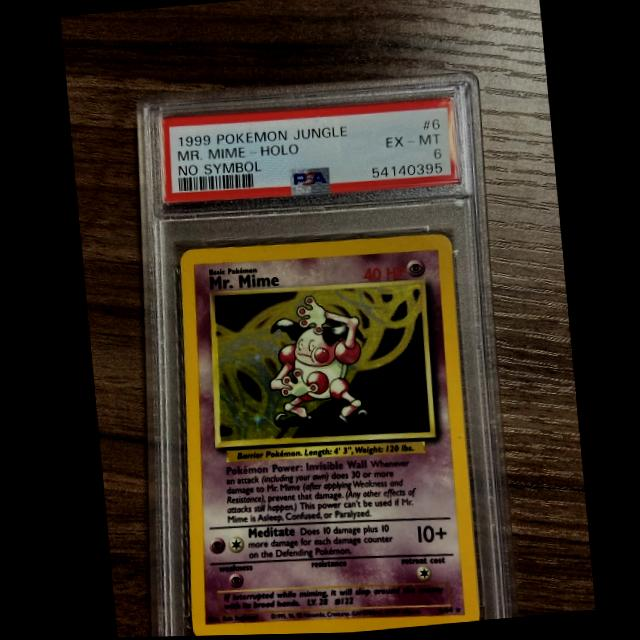card: (177, 234, 477, 637)
psa_label: (159, 98, 458, 205)
psa_slab: (132, 74, 514, 638)
